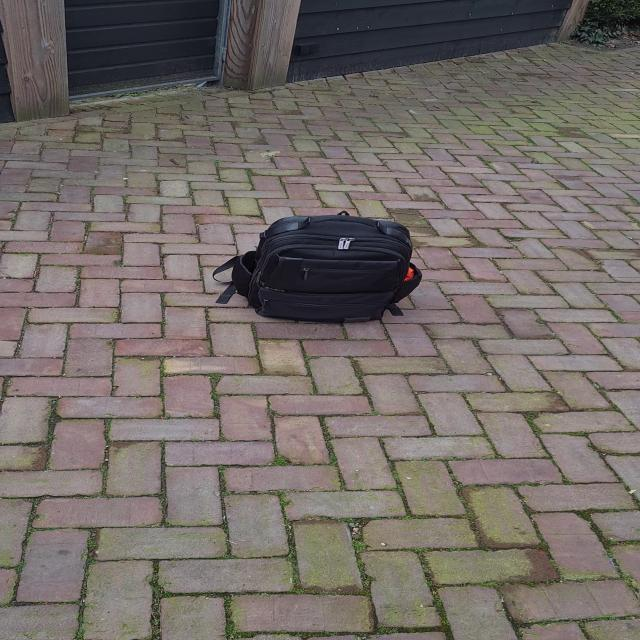backpack: (217, 208, 427, 326)
